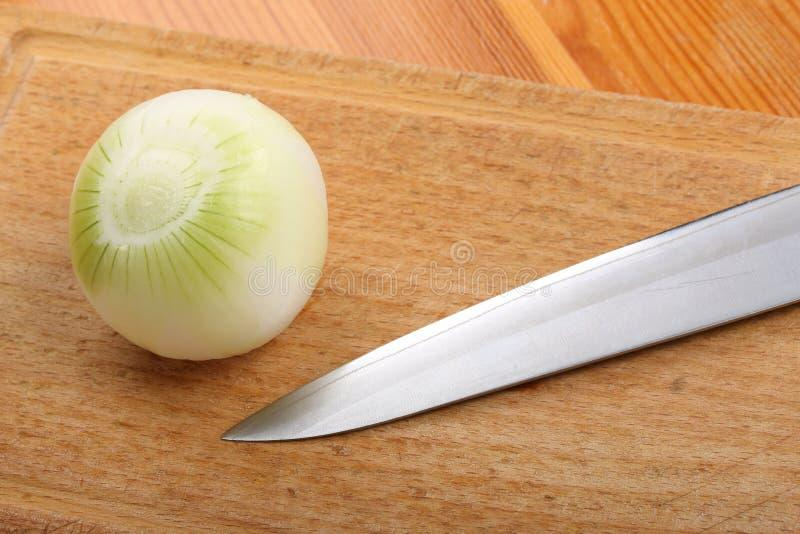Onion: (64, 82, 331, 362)
